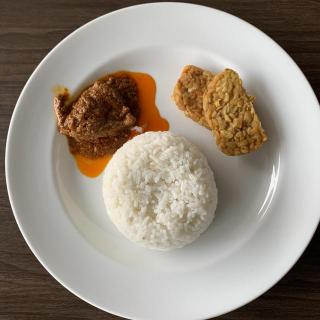Nasi: (105, 132, 218, 253)
